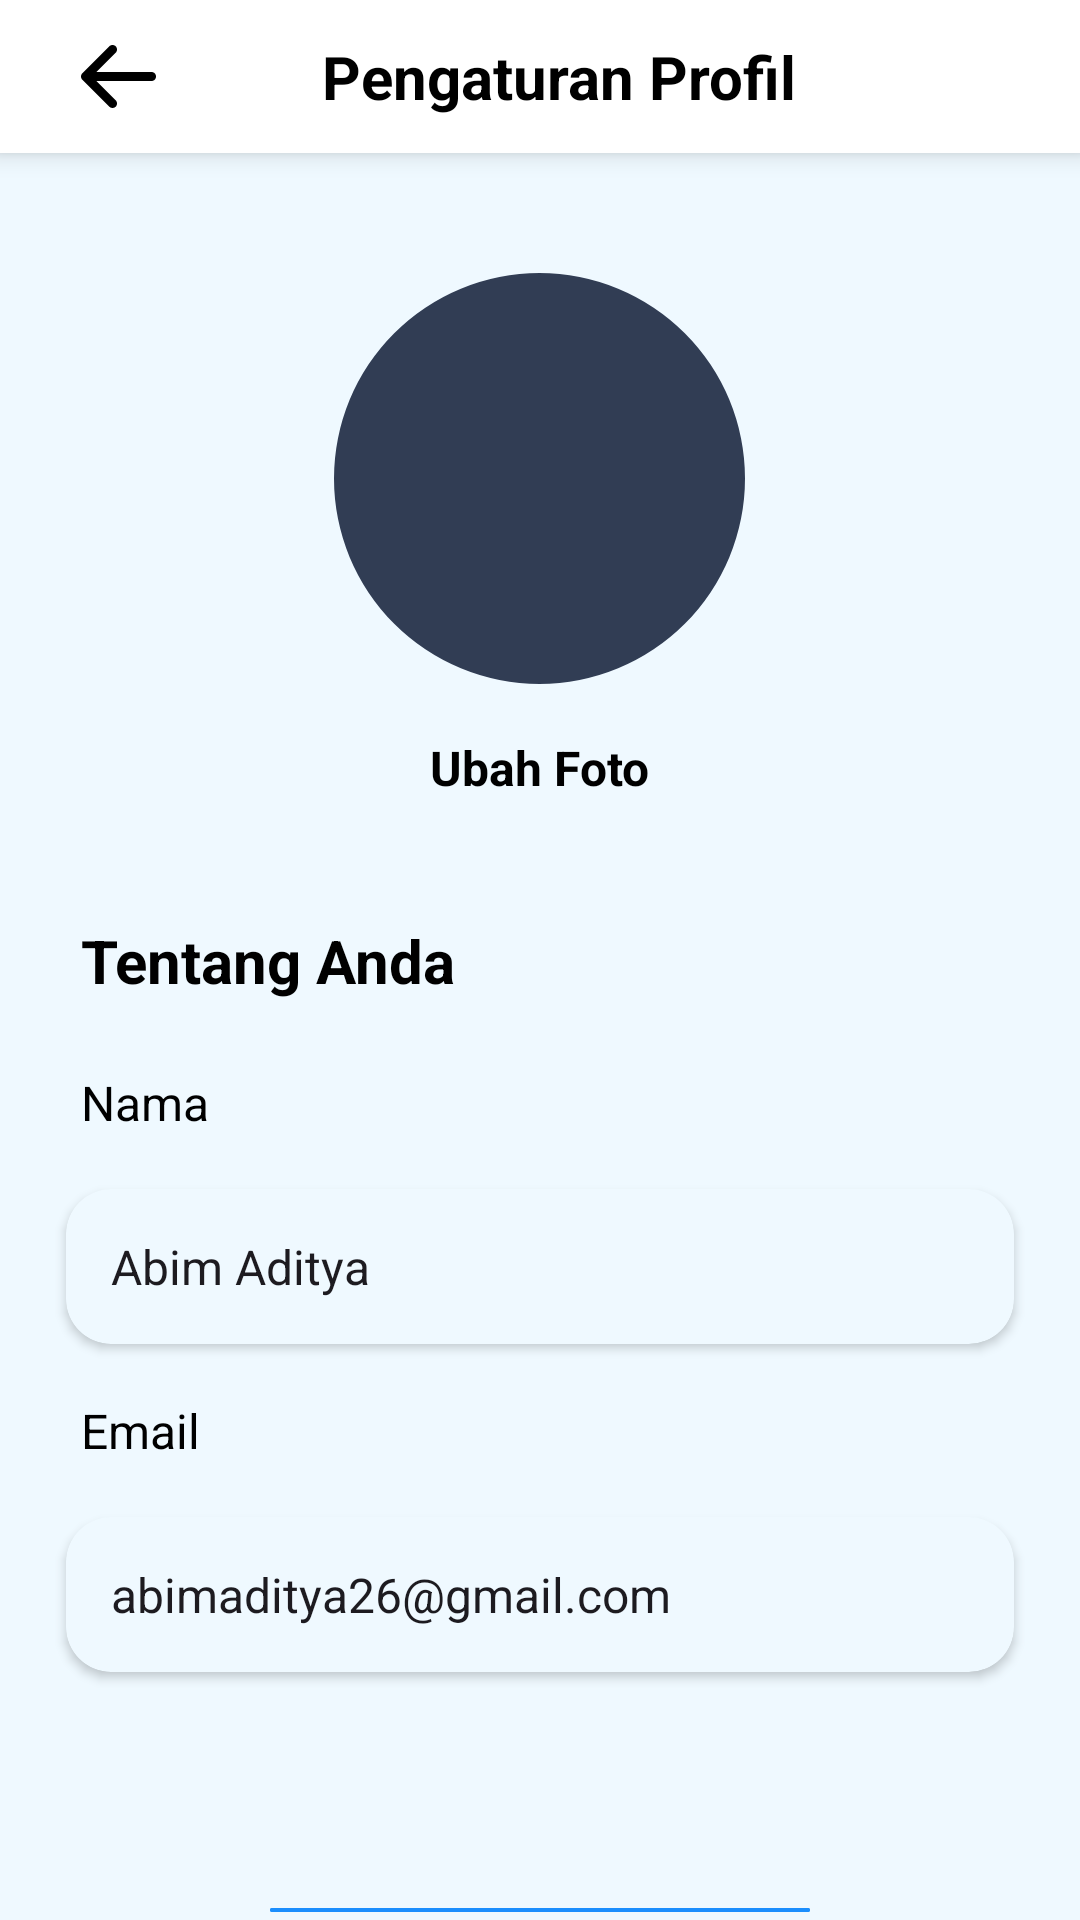

Locate icon controls on the screen. Image size 1080×1920, boxes as (x1, y1, x2, y2).
back: (81, 45, 156, 108)
